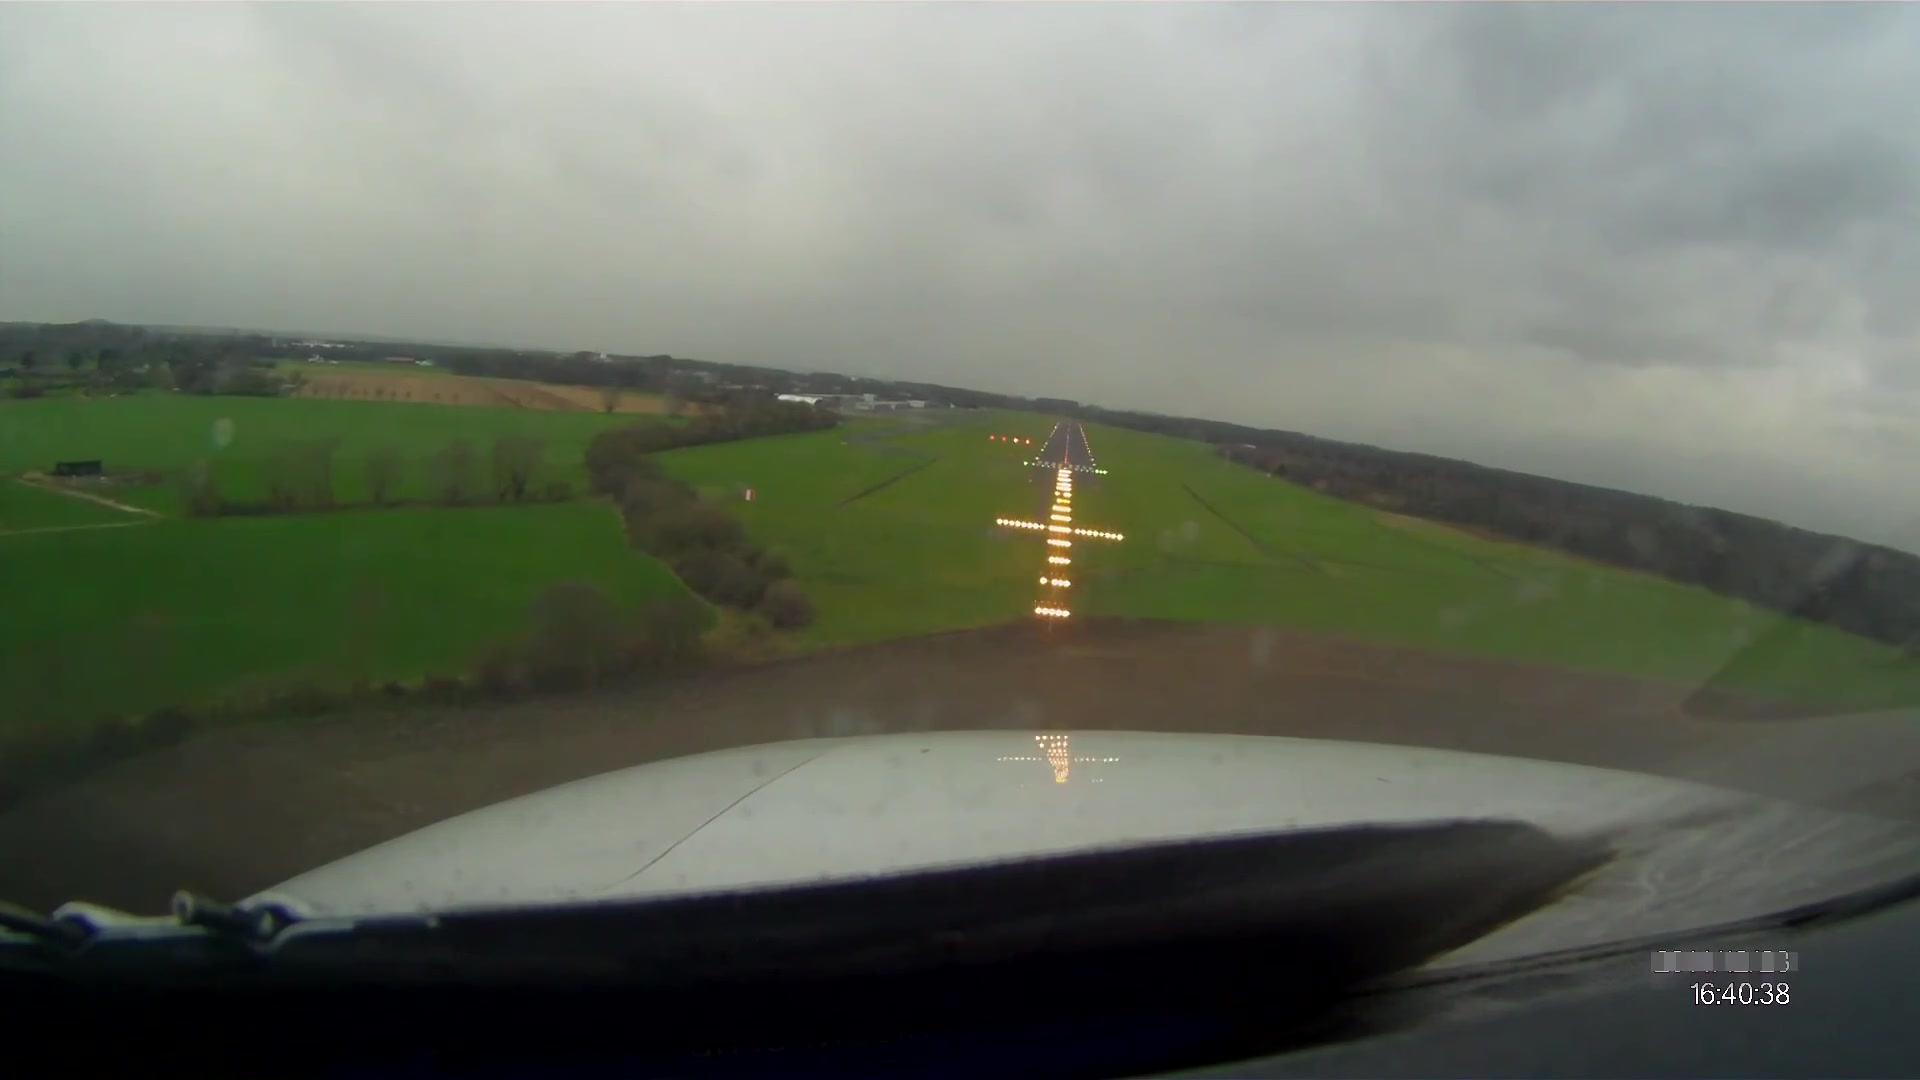runway: (1033, 419, 1097, 476)
